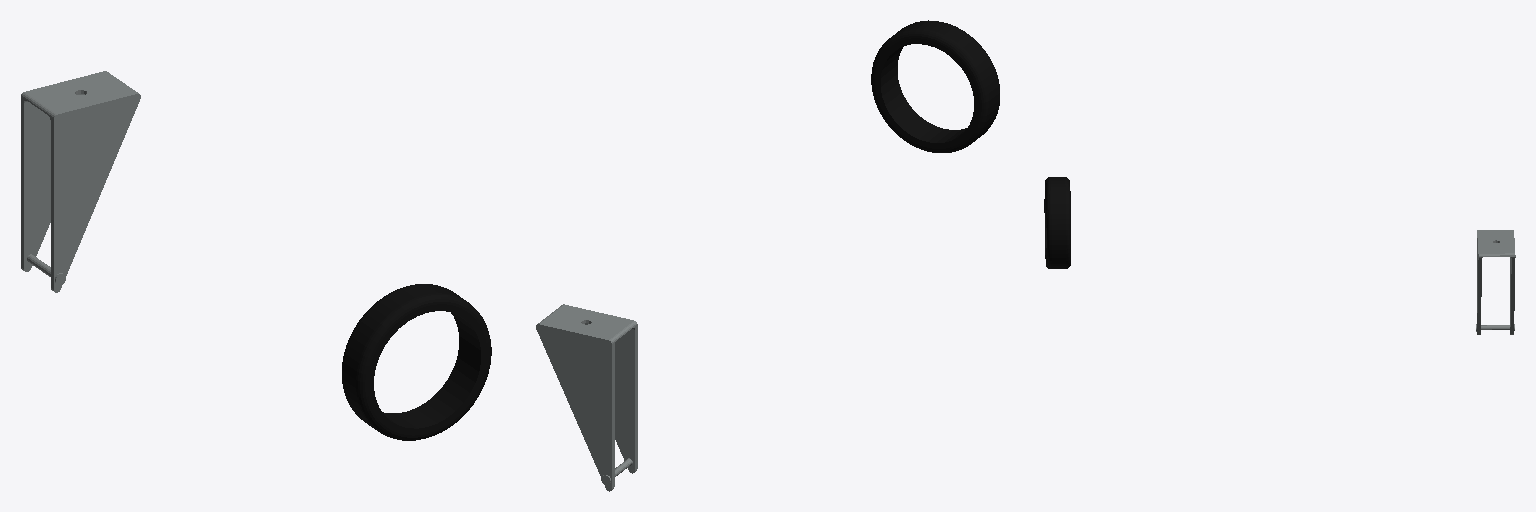
The robot description file, URDF, robot "mim_diffdrive":
<?xml version="1.0" encoding="utf-8"?>
<!-- This URDF was automatically created by SolidWorks to URDF Exporter! Originally created by [author] ([email redacted]) 
     Commit Version: 1.6.0-1-g15f4949  Build Version: 1.6.7594.29634
     For more information, please see http://wiki.ros.org/sw_urdf_exporter -->
<robot
  name="mim_diffdrive">
  <link
    name="base_link">
    <inertial>
      <origin
        xyz="-3.9620615595323E-15 -0.00101374975806221 0.172677436190927"
        rpy="0 0 0" />
      <mass
        value="33.5973988123837" />
      <inertia
        ixx="1.01936792689011"
        ixy="-2.87646047555418E-07"
        ixz="-4.13322576029007E-16"
        iyy="2.14070538797161"
        iyz="-2.66613602788427E-16"
        izz="3.05624852691436" />
    </inertial>
    <visual>
      <origin
        xyz="0 0 0"
        rpy="0 0 0" />
      <geometry>
        <mesh
            filename="package://mim_robots/meshes/diffdrive/base_link.STL" />
      </geometry>
      <material
        name="">
        <color
          rgba="0.501960784313725 0.501960784313725 0.501960784313725 0.5" />
      </material>
    </visual>
    <collision>
      <origin
        xyz="0 0 0"
        rpy="0 0 0" />
      <geometry>
        <mesh
            filename="package://mim_robots/meshes/diffdrive/base_link.STL" />
      </geometry>
    </collision>
  </link>
  <link
    name="P1">
    <inertial>
      <origin
        xyz="6.93889390390723E-16 2.01722204816701E-15 0"
        rpy="0 0 0" />
      <mass
        value="0.0720898510112747" />
      <inertia
        ixx="3.02016940016694E-05"
        ixy="7.59325952929537E-23"
        ixz="1.25511395674995E-22"
        iyy="3.02016940016694E-05"
        iyz="4.07470980183427E-23"
        izz="5.57490232813793E-05" />
    </inertial>
    <visual>
      <origin
        xyz="0 0 0"
        rpy="0 0 0" />
      <geometry>
        <mesh
            filename="package://mim_robots/meshes/diffdrive/P1.STL" />
      </geometry>
      <material
        name="">
        <color
          rgba="1 1 1 0.2" />
      </material>
    </visual>
    <collision>
      <origin
        xyz="0 0 0"
        rpy="0 0 0" />
      <geometry>
        <mesh
            filename="package://mim_robots/meshes/diffdrive/P1.STL" />
      </geometry>
    </collision>
  </link>
  <joint
    name="P1_J"
    type="continuous">
    <origin
      xyz="0 -0.210513749758133 0.0375000000000007"
      rpy="1.57079632679489 1.5707963267949 0" />
    <parent
      link="base_link" />
    <child
      link="P1" />
    <axis
      xyz="0 0 1" />
  </joint>
  <link
    name="P2">
    <inertial>
      <origin
        xyz="7.63278329429795E-16 -4.37692422136912E-15 5.55111512312578E-17"
        rpy="0 0 0" />
      <mass
        value="0.0720898510112747" />
      <inertia
        ixx="3.02016940016694E-05"
        ixy="3.39273298117377E-23"
        ixz="1.25511395674995E-22"
        iyy="3.02016940016694E-05"
        iyz="4.07470980183422E-23"
        izz="5.57490232813793E-05" />
    </inertial>
    <visual>
      <origin
        xyz="0 0 0"
        rpy="0 0 0" />
      <geometry>
        <mesh
            filename="package://mim_robots/meshes/diffdrive/P2.STL" />
      </geometry>
      <material
        name="">
        <color
          rgba="1 1 1 0.2" />
      </material>
    </visual>
    <collision>
      <origin
        xyz="0 0 0"
        rpy="0 0 0" />
      <geometry>
        <mesh
            filename="package://mim_robots/meshes/diffdrive/P2.STL" />
      </geometry>
    </collision>
  </link>
  <joint
    name="P2_J"
    type="continuous">
    <origin
      xyz="0 0.208486250241876 0.0375000000000008"
      rpy="1.57079632679489 1.5707963267949 0" />
    <parent
      link="base_link" />
    <child
      link="P2" />
    <axis
      xyz="0 0 1" />
  </joint>
  <link
    name="C1">
    <inertial>
      <origin
        xyz="-0.00692686642669293 0.0635846418066491 -8.13409695155087E-09"
        rpy="0 0 0" />
      <mass
        value="0.13722708003295" />
      <inertia
        ixx="9.93129843108459E-05"
        ixy="-1.89872436567927E-05"
        ixz="7.53735556825536E-12"
        iyy="4.28001298360455E-05"
        iyz="2.2295876374046E-11"
        izz="9.72152613506116E-05" />
    </inertial>
    <visual>
      <origin
        xyz="0 0 0"
        rpy="0 0 0" />
      <geometry>
        <mesh
            filename="package://mim_robots/meshes/diffdrive/C1.STL" />
      </geometry>
      <material
        name="">
        <color
          rgba="0.529411764705882 0.549019607843137 0.549019607843137 1" />
      </material>
    </visual>
    <collision>
      <origin
        xyz="0 0 0"
        rpy="0 0 0" />
      <geometry>
        <mesh
            filename="package://mim_robots/meshes/diffdrive/C1.STL" />
      </geometry>
    </collision>
  </link>
  <joint
    name="C1_J"
    type="continuous">
    <origin
      xyz="0.337499999999999 -0.178513749758134 0.0304721359549996"
      rpy="1.5707963267949 0 0.0264866109494407" />
    <parent
      link="base_link" />
    <child
      link="C1" />
    <axis
      xyz="0 1 0" />
  </joint>
  <link
    name="C1W">
    <inertial>
      <origin
        xyz="0 0 -5.55111512312578E-17"
        rpy="0 0 0" />
      <mass
        value="0.0741004703095722" />
      <inertia
        ixx="3.02888208379289E-05"
        ixy="3.14965690309587E-22"
        ixz="2.24283535816781E-21"
        iyy="3.03603122293902E-05"
        iyz="1.34831343534886E-06"
        izz="5.57177442758839E-05" />
    </inertial>
    <visual>
      <origin
        xyz="0 0 0"
        rpy="0 0 0" />
      <geometry>
        <mesh
            filename="package://mim_robots/meshes/diffdrive/C1W.STL" />
      </geometry>
      <material
        name="">
        <color
          rgba="0.109803921568627 0.109803921568627 0.109803921568627 1" />
      </material>
    </visual>
    <collision>
      <origin
        xyz="0 0 0"
        rpy="0 0 0" />
      <geometry>
        <mesh
            filename="package://mim_robots/meshes/diffdrive/C1W.STL" />
      </geometry>
    </collision>
  </link>
  <joint
    name="C1W_J"
    type="continuous">
    <origin
      xyz="-0.0210069660112502 0.00702786404500044 0"
      rpy="-3.0886194316909 0 -1.5707963267949" />
    <parent
      link="C1" />
    <child
      link="C1W" />
    <axis
      xyz="0 0.0529484501323336 0.998597246956241" />
  </joint>
  <link
    name="C2">
    <inertial>
      <origin
        xyz="-0.00692686642669288 0.0635846418066492 -8.13409700706202E-09"
        rpy="0 0 0" />
      <mass
        value="0.137227080032951" />
      <inertia
        ixx="9.93129843108462E-05"
        ixy="-1.89872436567928E-05"
        ixz="7.53735566248778E-12"
        iyy="4.28001298360458E-05"
        iyz="2.22958766821542E-11"
        izz="9.7215261350612E-05" />
    </inertial>
    <visual>
      <origin
        xyz="0 0 0"
        rpy="0 0 0" />
      <geometry>
        <mesh
            filename="package://mim_robots/meshes/diffdrive/C2.STL" />
      </geometry>
      <material
        name="">
        <color
          rgba="0.529411764705882 0.549019607843137 0.549019607843137 1" />
      </material>
    </visual>
    <collision>
      <origin
        xyz="0 0 0"
        rpy="0 0 0" />
      <geometry>
        <mesh
            filename="package://mim_robots/meshes/diffdrive/C2.STL" />
      </geometry>
    </collision>
  </link>
  <joint
    name="C2_J"
    type="continuous">
    <origin
      xyz="0.337500000000001 0.176486250241866 0.0304721359549995"
      rpy="1.5707963267949 0 0.0264866109494407" />
    <parent
      link="base_link" />
    <child
      link="C2" />
    <axis
      xyz="0 1 0" />
  </joint>
  <link
    name="C2W">
    <inertial>
      <origin
        xyz="-1.38777878078145E-17 0 0"
        rpy="0 0 0" />
      <mass
        value="0.0741004703095722" />
      <inertia
        ixx="3.02888208379289E-05"
        ixy="6.63178656109087E-22"
        ixz="1.96617885959453E-21"
        iyy="3.03603122293902E-05"
        iyz="1.34831343534886E-06"
        izz="5.57177442758839E-05" />
    </inertial>
    <visual>
      <origin
        xyz="0 0 0"
        rpy="0 0 0" />
      <geometry>
        <mesh
            filename="package://mim_robots/meshes/diffdrive/C2W.STL" />
      </geometry>
      <material
        name="">
        <color
          rgba="0.109803921568627 0.109803921568627 0.109803921568627 1" />
      </material>
    </visual>
    <collision>
      <origin
        xyz="0 0 0"
        rpy="0 0 0" />
      <geometry>
        <mesh
            filename="package://mim_robots/meshes/diffdrive/C2W.STL" />
      </geometry>
    </collision>
  </link>
  <joint
    name="C2W_J"
    type="continuous">
    <origin
      xyz="-0.0210069660112502 0.00702786404500046 0"
      rpy="-3.0886194316909 0 -1.5707963267949" />
    <parent
      link="C2" />
    <child
      link="C2W" />
    <axis
      xyz="0 0.0529484501323336 0.998597246956241" />
  </joint>
  <link
    name="C3">
    <inertial>
      <origin
        xyz="-0.00692686642669288 0.063584641806649 -8.13409700706202E-09"
        rpy="0 0 0" />
      <mass
        value="0.137227080032949" />
      <inertia
        ixx="9.93129843108455E-05"
        ixy="-1.89872436567925E-05"
        ixz="7.53735562119492E-12"
        iyy="4.28001298360454E-05"
        iyz="2.22958765094654E-11"
        izz="9.72152613506112E-05" />
    </inertial>
    <visual>
      <origin
        xyz="0 0 0"
        rpy="0 0 0" />
      <geometry>
        <mesh
            filename="package://mim_robots/meshes/diffdrive/C3.STL" />
      </geometry>
      <material
        name="">
        <color
          rgba="0.529411764705882 0.549019607843137 0.549019607843137 1" />
      </material>
    </visual>
    <collision>
      <origin
        xyz="0 0 0"
        rpy="0 0 0" />
      <geometry>
        <mesh
            filename="package://mim_robots/meshes/diffdrive/C3.STL" />
      </geometry>
    </collision>
  </link>
  <joint
    name="C3_J"
    type="continuous">
    <origin
      xyz="-0.337500000000001 -0.178513749758132 0.0304699999999996"
      rpy="1.5707963267949 0 0.0264866109494407" />
    <parent
      link="base_link" />
    <child
      link="C3" />
    <axis
      xyz="0 1 0" />
  </joint>
  <link
    name="C3W">
    <inertial>
      <origin
        xyz="0 -5.55111512312578E-17 -2.4980018054066E-16"
        rpy="0 0 0" />
      <mass
        value="0.0741004703095722" />
      <inertia
        ixx="3.02888208379289E-05"
        ixy="7.32766140857079E-22"
        ixz="1.98493494221899E-21"
        iyy="3.03603122293902E-05"
        iyz="1.34831343534886E-06"
        izz="5.57177442758839E-05" />
    </inertial>
    <visual>
      <origin
        xyz="0 0 0"
        rpy="0 0 0" />
      <geometry>
        <mesh
            filename="package://mim_robots/meshes/diffdrive/C3W.STL" />
      </geometry>
      <material
        name="">
        <color
          rgba="1 1 1 0.2" />
      </material>
    </visual>
    <collision>
      <origin
        xyz="0 0 0"
        rpy="0 0 0" />
      <geometry>
        <mesh
            filename="package://mim_robots/meshes/diffdrive/C3W.STL" />
      </geometry>
    </collision>
  </link>
  <joint
    name="C3W_J"
    type="continuous">
    <origin
      xyz="-0.02100696601125 0.00702786404500066 0"
      rpy="-3.0886194316909 0 -1.5707963267949" />
    <parent
      link="C3" />
    <child
      link="C3W" />
    <axis
      xyz="0 0.0529484501323336 0.998597246956241" />
  </joint>
  <link
    name="C4">
    <inertial>
      <origin
        xyz="-0.00692686642669288 0.0635846418066492 -8.13409697930645E-09"
        rpy="0 0 0" />
      <mass
        value="0.13722708003295" />
      <inertia
        ixx="9.93129843108461E-05"
        ixy="-1.89872436567929E-05"
        ixz="7.53735567222865E-12"
        iyy="4.28001298360458E-05"
        iyz="2.22958765633579E-11"
        izz="9.72152613506121E-05" />
    </inertial>
    <visual>
      <origin
        xyz="0 0 0"
        rpy="0 0 0" />
      <geometry>
        <mesh
            filename="package://mim_robots/meshes/diffdrive/C4.STL" />
      </geometry>
      <material
        name="">
        <color
          rgba="0.529411764705882 0.549019607843137 0.549019607843137 1" />
      </material>
    </visual>
    <collision>
      <origin
        xyz="0 0 0"
        rpy="0 0 0" />
      <geometry>
        <mesh
            filename="package://mim_robots/meshes/diffdrive/C4.STL" />
      </geometry>
    </collision>
  </link>
  <joint
    name="C4_J"
    type="continuous">
    <origin
      xyz="-0.337499999999999 0.176486250241868 0.0304721359549995"
      rpy="1.5707963267949 0 0.0264866109494407" />
    <parent
      link="base_link" />
    <child
      link="C4" />
    <axis
      xyz="0 1 0" />
  </joint>
  <link
    name="C4W">
    <inertial>
      <origin
        xyz="-1.38777878078145E-17 0 -8.32667268468867E-17"
        rpy="0 0 0" />
      <mass
        value="0.0741004703095722" />
      <inertia
        ixx="3.02888208379289E-05"
        ixy="1.74181515086185E-21"
        ixz="2.2504232470915E-21"
        iyy="3.03603122293902E-05"
        iyz="1.34831343534886E-06"
        izz="5.57177442758839E-05" />
    </inertial>
    <visual>
      <origin
        xyz="0 0 0"
        rpy="0 0 0" />
      <geometry>
        <mesh
            filename="package://mim_robots/meshes/diffdrive/C4W.STL" />
      </geometry>
      <material
        name="">
        <color
          rgba="1 1 1 0.2" />
      </material>
    </visual>
    <collision>
      <origin
        xyz="0 0 0"
        rpy="0 0 0" />
      <geometry>
        <mesh
            filename="package://mim_robots/meshes/diffdrive/C4W.STL" />
      </geometry>
    </collision>
  </link>
  <joint
    name="C4W_J"
    type="continuous">
    <origin
      xyz="-0.02100696601125 0.00702786404500043 0"
      rpy="-3.0886194316909 0 -1.5707963267949" />
    <parent
      link="C4" />
    <child
      link="C4W" />
    <axis
      xyz="0 0.0529484501323336 0.998597246956241" />
  </joint>
  <link
    name="LIDAR">
    <inertial>
      <origin
        xyz="0.0121635550237251 -0.0287648885700504 0.000482127519639952"
        rpy="0 0 0" />
      <mass
        value="0.0730843682728084" />
      <inertia
        ixx="1.9581192847151E-05"
        ixy="-4.28353557726989E-07"
        ixz="1.03772853897536E-07"
        iyy="4.14178195715931E-05"
        iyz="-9.42526989362686E-09"
        izz="2.41241304679093E-05" />
    </inertial>
    <visual>
      <origin
        xyz="0 0 0"
        rpy="0 0 0" />
      <geometry>
        <mesh
            filename="package://mim_robots/meshes/diffdrive/LIDAR.STL" />
      </geometry>
      <material
        name="">
        <color
          rgba="0.752941176470588 0.752941176470588 0.752941176470588 1" />
      </material>
    </visual>
    <collision>
      <origin
        xyz="0 0 0"
        rpy="0 0 0" />
      <geometry>
        <mesh
            filename="package://mim_robots/meshes/diffdrive/LIDAR.STL" />
      </geometry>
    </collision>
  </link>
  <joint
    name="LIDAR_J"
    type="fixed">
    <origin
      xyz="0.321103295710635 -0.000963772085875598 0.374500000000008"
      rpy="1.57079632679489 0 -3.14159265358979" />
    <parent
      link="base_link" />
    <child
      link="LIDAR" />
    <axis
      xyz="0 0 0" />
  </joint>
</robot>

--- What the picture shows (computed from the rendered views, not written in the file) ---
3 views of the same robot in one strip: view 1: azimuth 30°, elevation 25°; view 2: azimuth 150°, elevation 25°; view 3: azimuth 270°, elevation 25° (orthographic).
Robot: mim_diffdrive — 12 links, 11 joints (10 continuous, 1 fixed); root link base_link; default pose: all joints at 0.
Visible links, largest first — view 1: C2, C1W; view 2: C2, C1W; view 3: C1W, C2.
Link boxes in pixels (x1,y1,x2,y2): C2: (21,71,140,292); C1W: (342,284,491,440); C2: (536,304,637,491); C1W: (871,20,999,152); C1W: (1044,177,1070,268); C2: (1476,230,1515,334).
Size in the robot's own frame: 0.0834 by 0.3821 by 0.138 metres.
2 mesh visuals loaded from 12 distinct referenced files (2 binary STL); not drawn: 10 (reference not matched to a file when rendering).